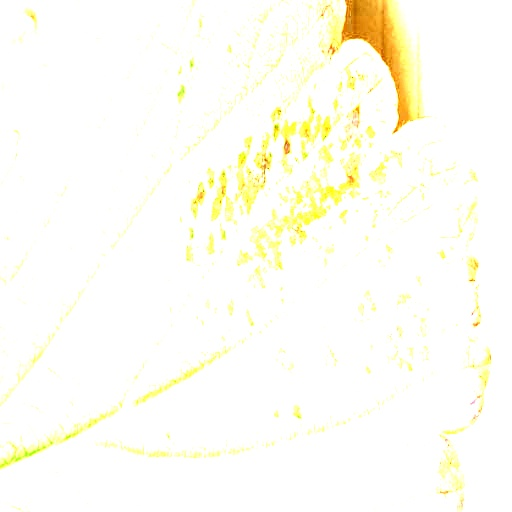Angular Leafspot: (152, 0, 496, 511)
